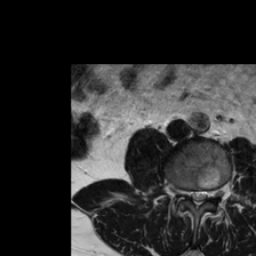CCS_normal: (194, 184, 201, 212)
LFS_normal: (208, 183, 216, 202)
LLS_normal: (201, 183, 208, 208)
RFS_stenosis: (180, 182, 188, 206)
RLS_severe_stenosis: (188, 184, 194, 206)
